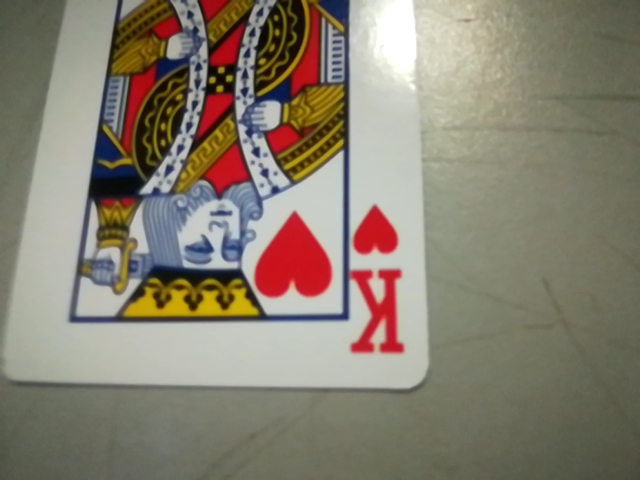hx k: (340, 197, 419, 368)
